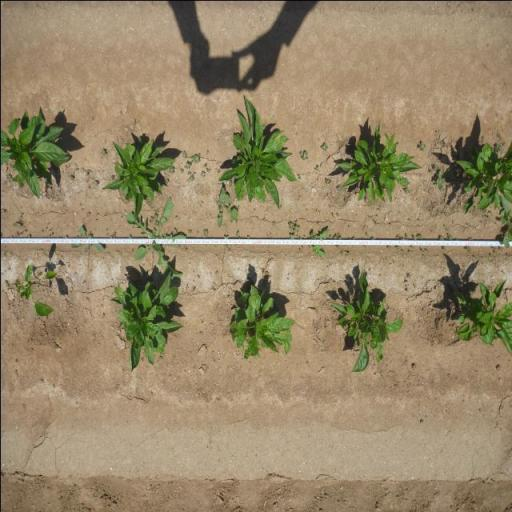plant: (217, 95, 296, 210), (330, 268, 404, 373), (337, 118, 422, 205), (109, 275, 184, 371), (0, 108, 70, 201), (104, 140, 176, 215), (228, 283, 296, 361), (452, 138, 512, 216), (452, 277, 512, 354), (12, 263, 58, 317)
weed: (122, 215, 186, 279), (70, 224, 104, 254), (214, 187, 238, 227), (304, 225, 330, 258), (499, 197, 512, 247), (432, 170, 444, 188), (286, 220, 300, 232), (147, 212, 158, 226), (12, 229, 26, 237), (494, 143, 504, 154), (190, 153, 200, 164), (418, 140, 426, 152), (396, 232, 408, 240), (299, 150, 308, 160), (402, 278, 408, 292), (13, 220, 23, 228), (187, 171, 195, 180), (320, 142, 328, 150), (226, 179, 234, 187), (490, 246, 497, 255), (313, 163, 319, 173), (334, 233, 342, 240), (324, 178, 332, 184), (100, 147, 106, 155), (403, 187, 409, 194), (288, 233, 295, 239), (202, 229, 208, 236), (184, 162, 191, 168), (168, 166, 174, 173), (178, 166, 184, 173), (92, 179, 98, 186), (447, 232, 452, 240), (181, 150, 186, 158), (432, 163, 438, 169), (296, 173, 302, 179), (386, 244, 392, 250), (200, 170, 204, 178), (465, 246, 470, 252), (412, 234, 417, 240), (441, 246, 446, 251), (417, 234, 422, 239), (406, 273, 411, 278), (296, 234, 301, 239), (223, 234, 228, 239), (215, 168, 220, 173), (336, 184, 340, 190), (438, 236, 444, 240), (396, 244, 400, 250), (370, 236, 376, 240), (345, 252, 351, 256), (336, 244, 340, 250), (203, 162, 207, 168), (164, 178, 168, 184), (69, 174, 73, 180), (420, 247, 424, 252), (206, 168, 210, 173), (191, 287, 196, 291), (428, 168, 431, 174), (272, 220, 275, 226), (340, 251, 343, 256), (408, 250, 412, 253), (366, 232, 368, 238), (236, 230, 238, 236), (426, 248, 428, 252)
